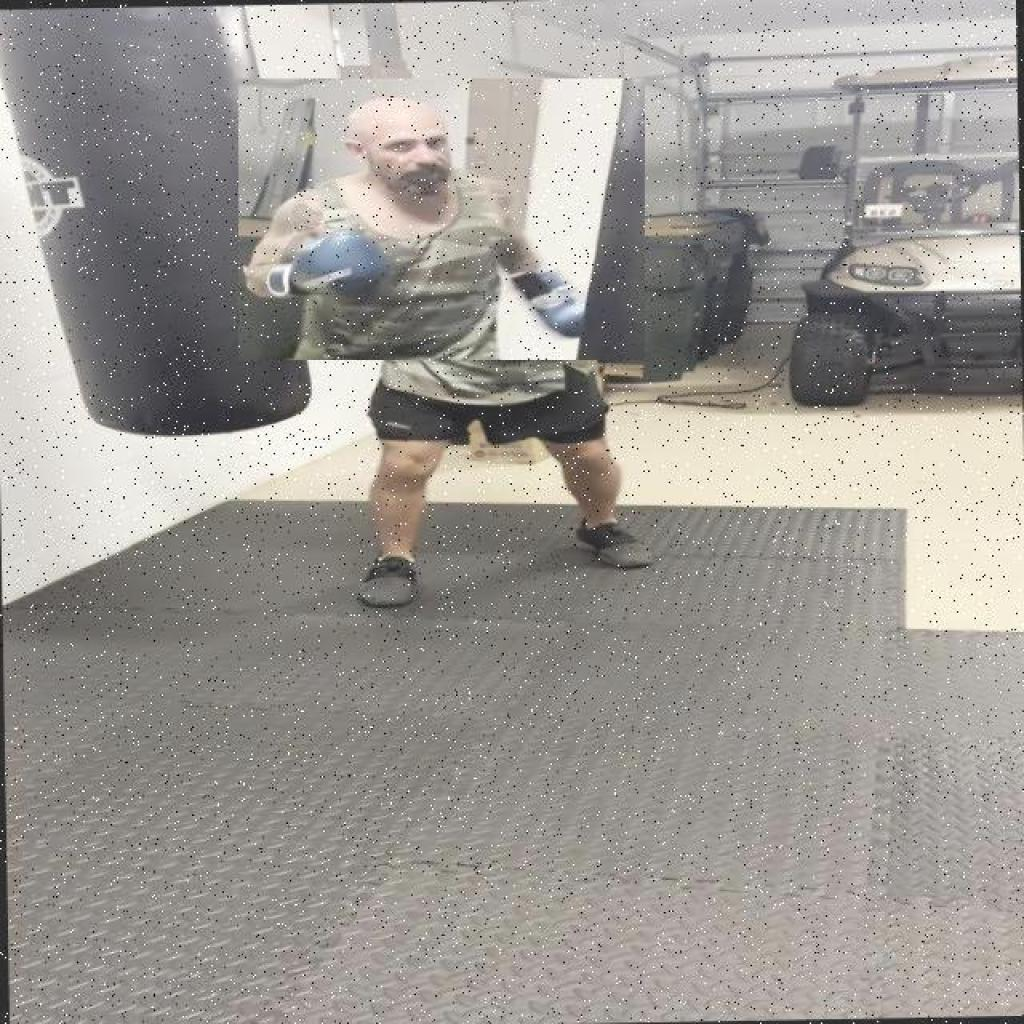bag: (59, 4, 264, 466)
hook: (238, 78, 645, 360)
